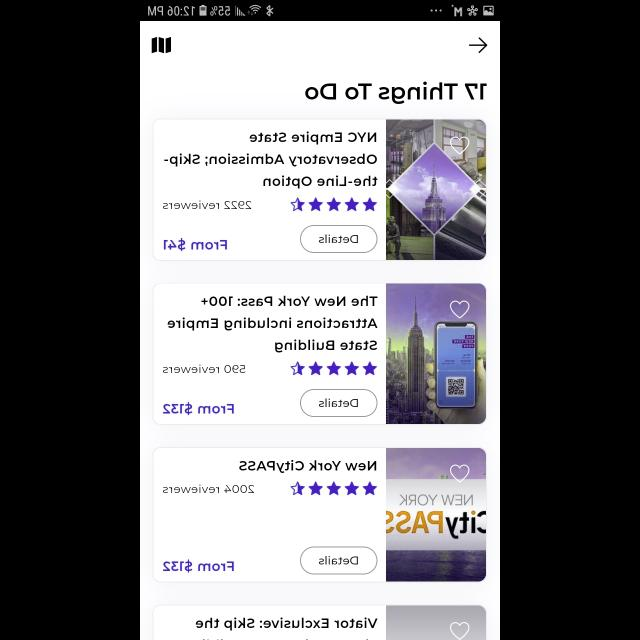icon: (290, 198, 378, 212), (290, 361, 378, 375), (290, 481, 378, 495), (449, 464, 469, 484), (450, 300, 470, 320), (449, 136, 469, 156), (449, 622, 469, 640), (151, 37, 171, 54), (468, 38, 488, 54)
image: (386, 120, 486, 260), (386, 284, 486, 424), (386, 448, 486, 582), (386, 606, 486, 640)
text: (163, 131, 377, 189), (167, 296, 377, 352), (305, 82, 487, 105), (195, 618, 377, 630), (239, 459, 377, 473), (162, 402, 234, 416), (162, 484, 254, 494), (162, 200, 252, 210), (164, 238, 228, 252), (162, 560, 234, 572), (162, 364, 245, 374)
textbutton: (299, 225, 377, 253), (299, 389, 377, 417), (299, 547, 377, 575)
uppertaskbar: (140, 1, 500, 22)
